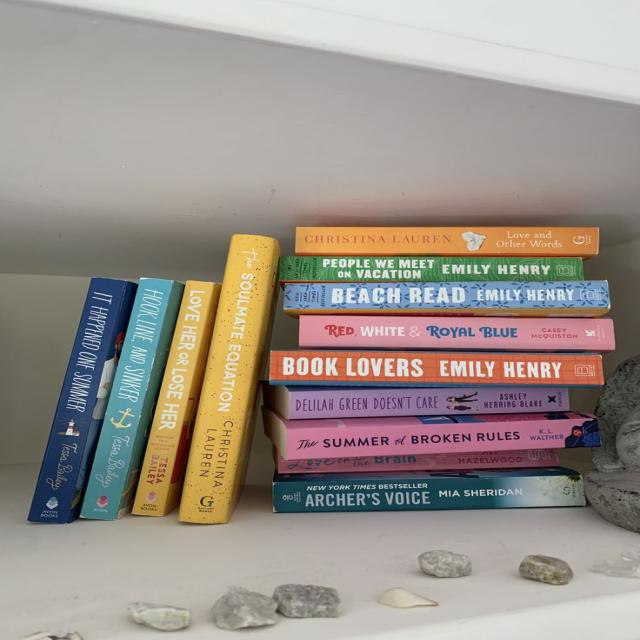book: (180, 234, 278, 523), (25, 277, 128, 524), (80, 280, 174, 520), (130, 280, 214, 516), (287, 419, 601, 460), (269, 350, 604, 386), (300, 315, 615, 350), (274, 476, 587, 511), (283, 280, 611, 309), (289, 387, 570, 420), (278, 256, 583, 282), (296, 227, 599, 253), (278, 450, 560, 473)
